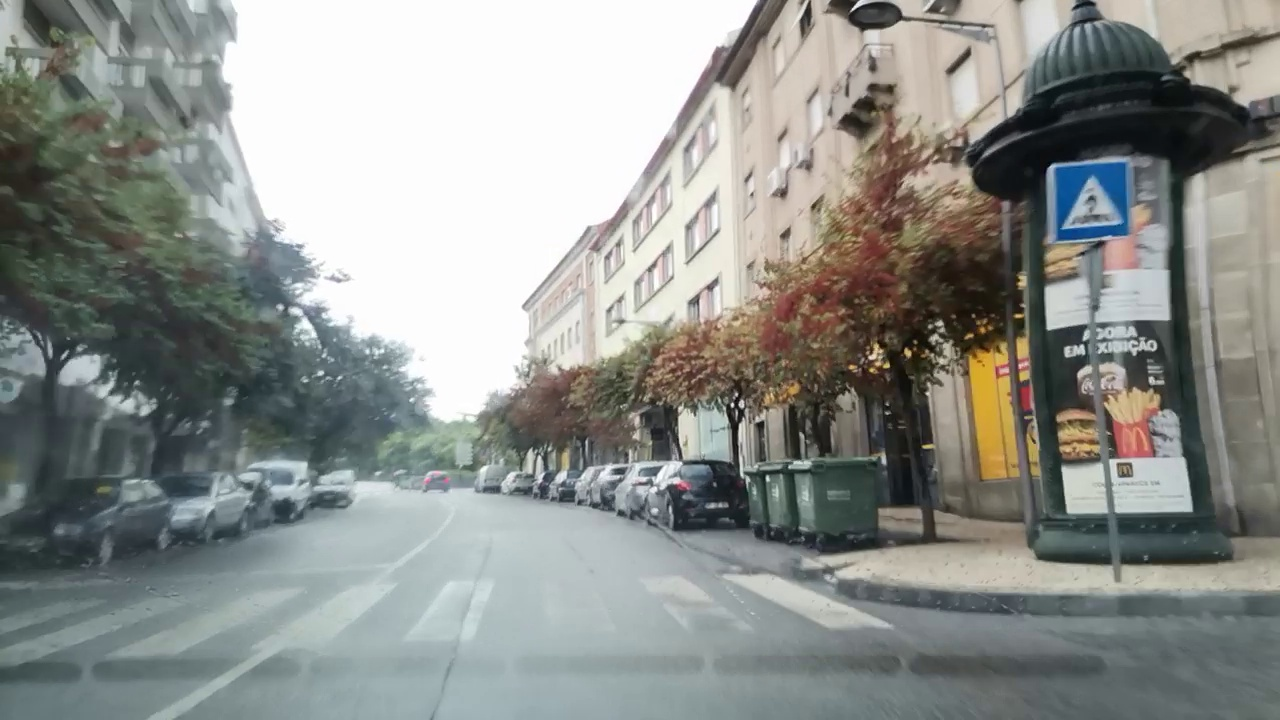Stairs: (0, 570, 898, 662)
